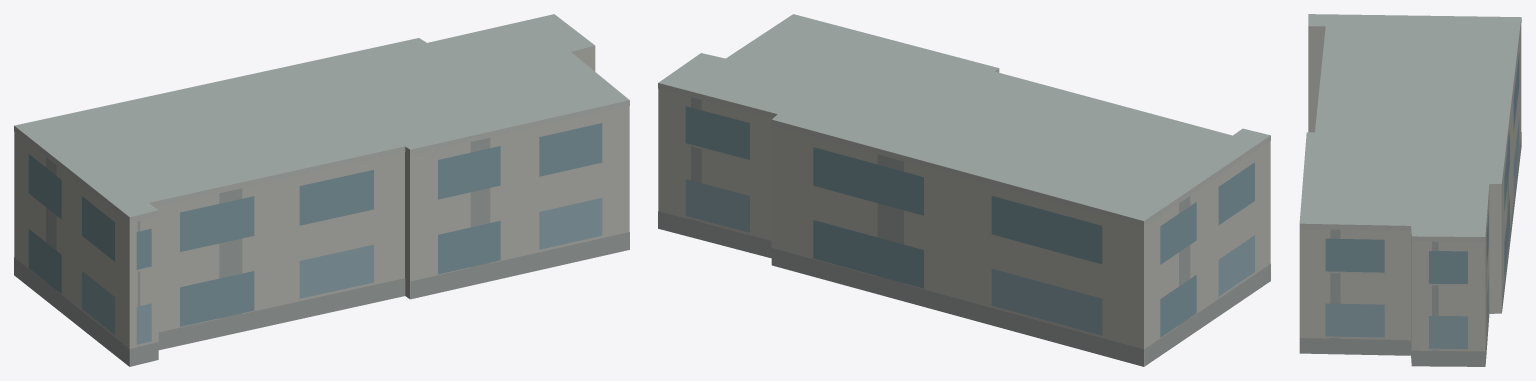
File: survey-upis-32681508.glb
The picture shows the model from 3 angles, left to right: view 1: azimuth 30°, elevation 25°; view 2: azimuth 150°, elevation 25°; view 3: azimuth 270°, elevation 25°; orthographic projection. The views are drawn at different scales.
Visible parts, largest first — view 1: survey-upis-32681508.tmp; view 2: survey-upis-32681508.tmp; view 3: survey-upis-32681508.tmp.
Boxes of the visible parts, <box> form: survey-upis-32681508.tmp: <box>14,14,629,366</box>; survey-upis-32681508.tmp: <box>658,14,1270,366</box>; survey-upis-32681508.tmp: <box>1299,14,1521,366</box>.
Size of the model in its own units: 22.49 by 6.1 by 9.46.
